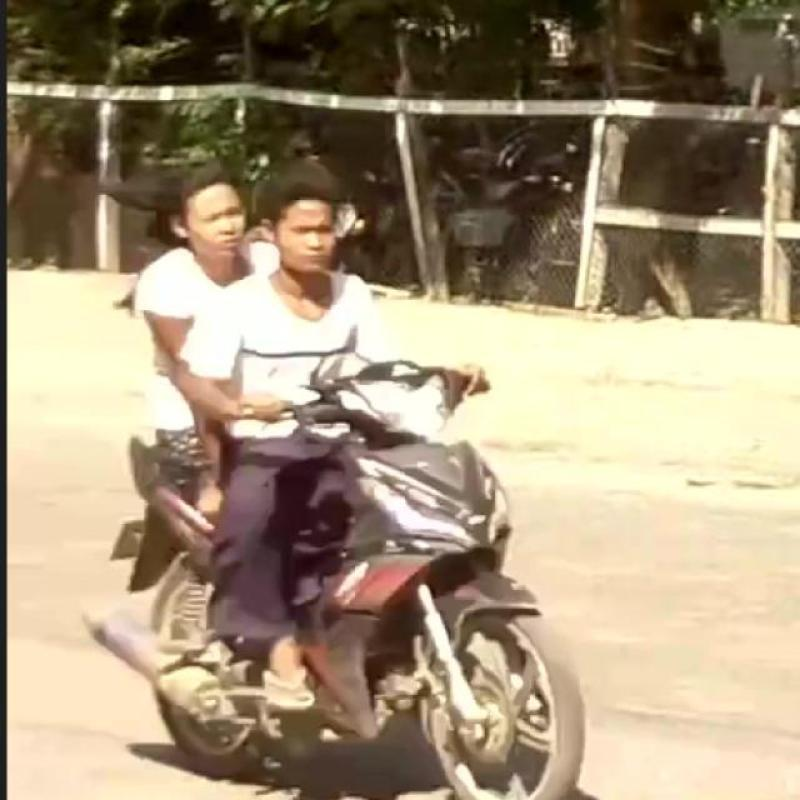nohelmet: (258, 167, 396, 268), (168, 171, 251, 277)
